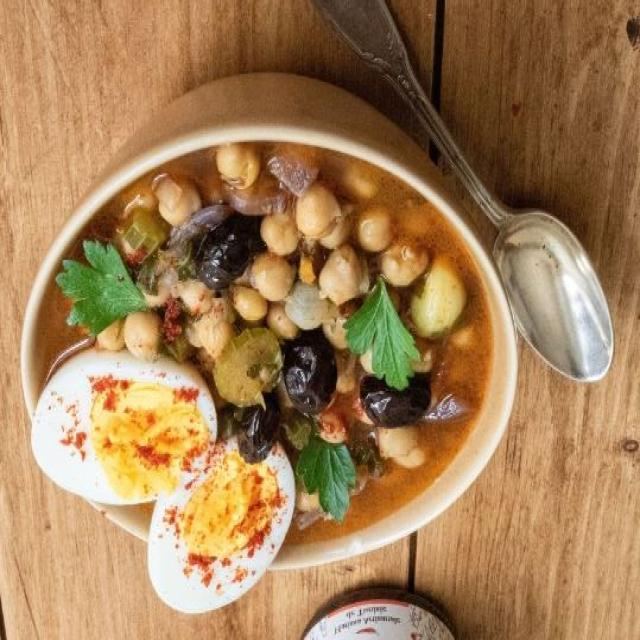Lablabi: (41, 113, 483, 598)
